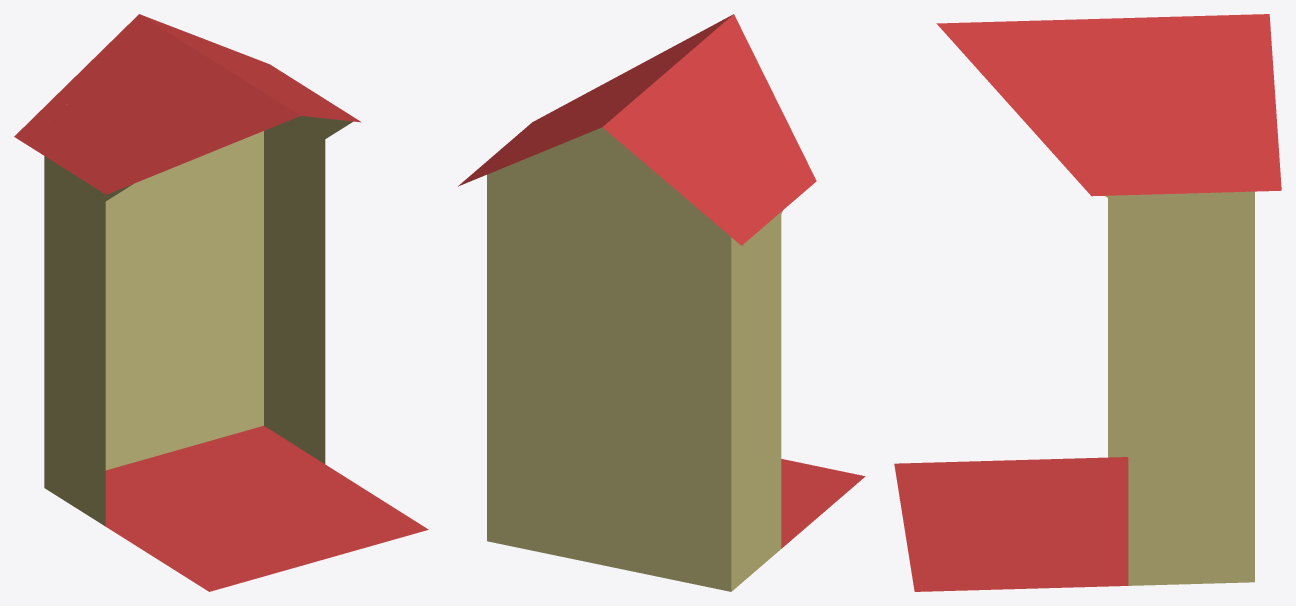
The picture shows the model from 3 angles, left to right: view 1: azimuth 30°, elevation 25°; view 2: azimuth 150°, elevation 25°; view 3: azimuth 270°, elevation 25°; orthographic projection. The views are drawn at different scales.
Size of the model in its own units: 7.32 by 7.74 by 11.05.
